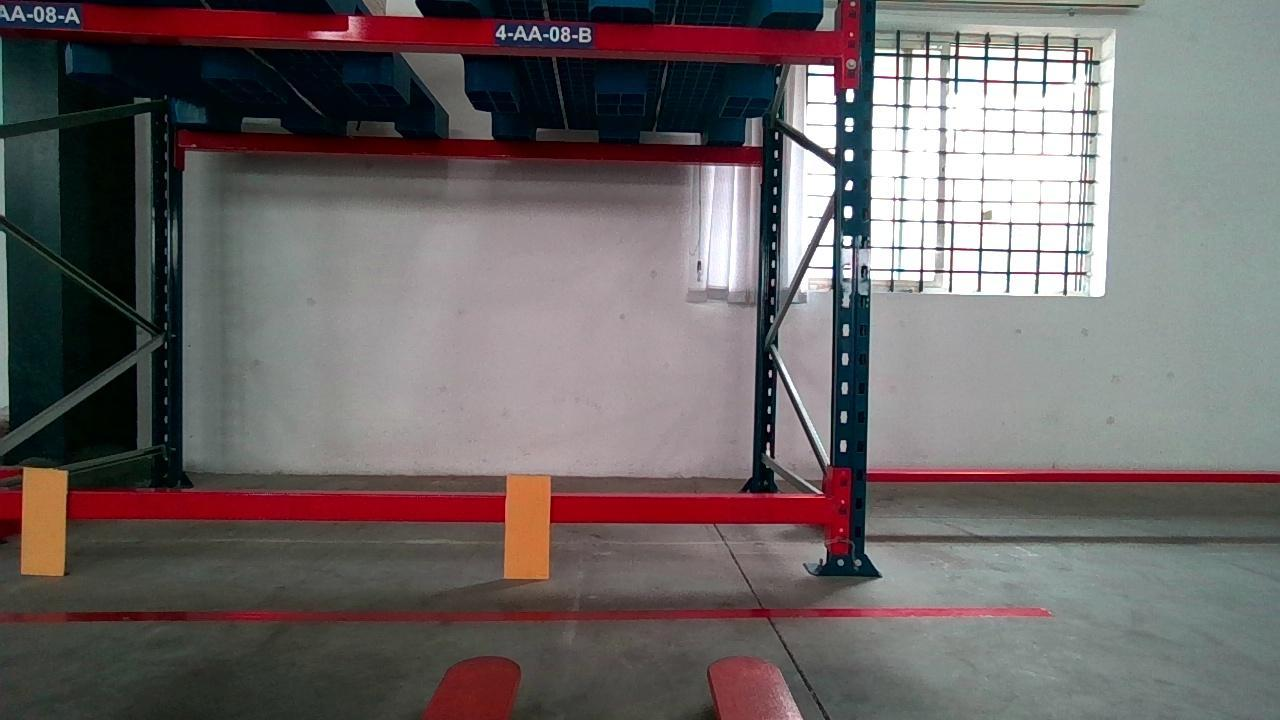h_rack: (2, 3, 844, 55), (3, 492, 831, 523)
orange_strip: (20, 470, 67, 576), (507, 472, 551, 578)
red_line: (1, 605, 1054, 621)
